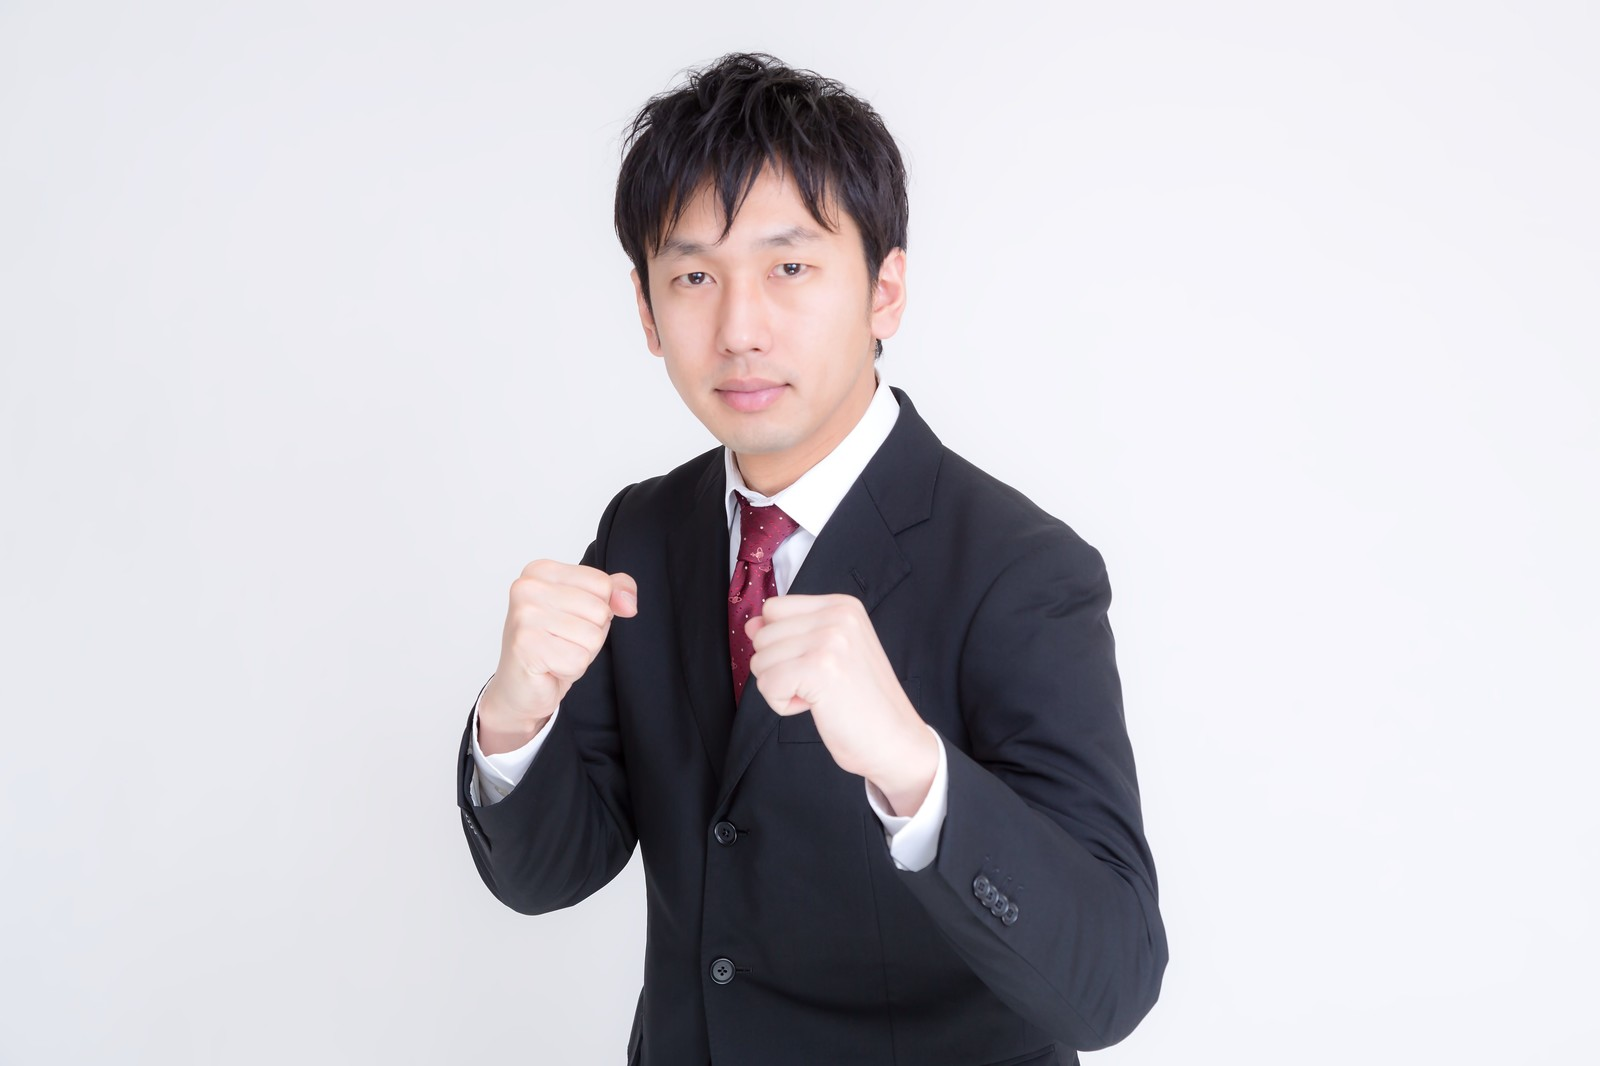face: (631, 156, 909, 452)
hand: (744, 588, 940, 787), (471, 537, 642, 749)
